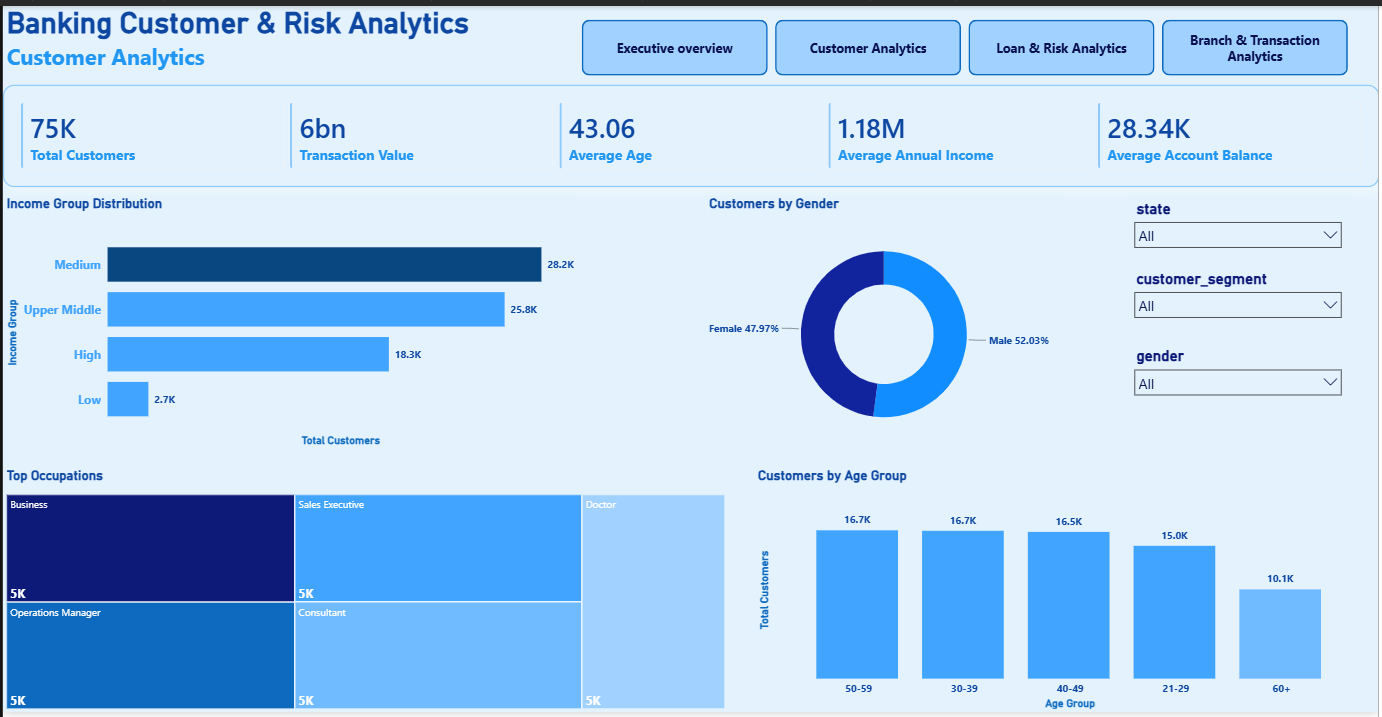

Layout of this report page (visuals, bound fields, positions):
{"tool":"powerbi","page":{"name":"Customer Analytics","canvas":[1850,950],"ordinal":1},"visuals":[{"type":"textbox","title":"Banking Customer & Risk Analytics ","box":[0,0,761.3,94.1],"z":0},{"type":"cardVisual","fields":{"Data":["new measures.Total Customers","new measures.Transaction Value","new measures.Average Age","new measures.Average Annual Income","new measures.Average Account Balance"]},"box":[0,105.9,1850.3,137.8],"z":1000},{"type":"clusteredBarChart","title":"Income Group Distribution","fields":{"Category":["customers.Income Group"],"Y":["new measures.Total Customers"]},"box":[0,255.5,773.1,341.2],"z":2000},{"type":"donutChart","title":"Customers by Gender","fields":{"Category":["customers.gender"],"Y":["new measures.Total Customers"]},"box":[944.5,255.5,480,340],"z":3000},{"type":"clusteredColumnChart","title":"Customers by Age Group","fields":{"Category":["customers.Age Group"],"Y":["new measures.Total Customers"]},"box":[1010,620,828,330],"z":4000},{"type":"treemap","title":"Top Occupations","fields":{"Group":["customers.occupation"],"Values":["new measures.Total Customers"]},"box":[0,620,976,330],"z":5000},{"type":"slicer","fields":{"Values":["customers.state"]},"box":[1510.9,255.5,299.1,94.1],"z":6000},{"type":"slicer","fields":{"Values":["customers.gender"]},"box":[1510.9,453.8,299.1,94.1],"z":7000},{"type":"slicer","fields":{"Values":["customers.customer_segment"]},"box":[1510.9,349.6,299.1,82.3],"z":8000},{"type":"pageNavigator","box":[778.1,18.5,1031.9,75.6],"z":8001}]}

Visuals, with their boxes in screenshot pixels (x1, y1, x2, y2), scaled from the page's 1850x950 canvas onto the 1382x717 screenshot:
"Banking Customer & Risk Analytics " textbox: rect(0, 0, 569, 71)
cardVisual - new measures.Total Customers x new measures.Transaction Value: rect(0, 80, 1381, 184)
"Income Group Distribution" clusteredBarChart: rect(0, 193, 578, 450)
"Customers by Gender" donutChart: rect(706, 193, 1064, 449)
"Customers by Age Group" clusteredColumnChart: rect(754, 468, 1373, 716)
"Top Occupations" treemap: rect(0, 468, 729, 716)
slicer - customers.state: rect(1129, 193, 1352, 264)
slicer - customers.gender: rect(1129, 342, 1352, 414)
slicer - customers.customer_segment: rect(1129, 264, 1352, 326)
pageNavigator: rect(581, 14, 1352, 71)
